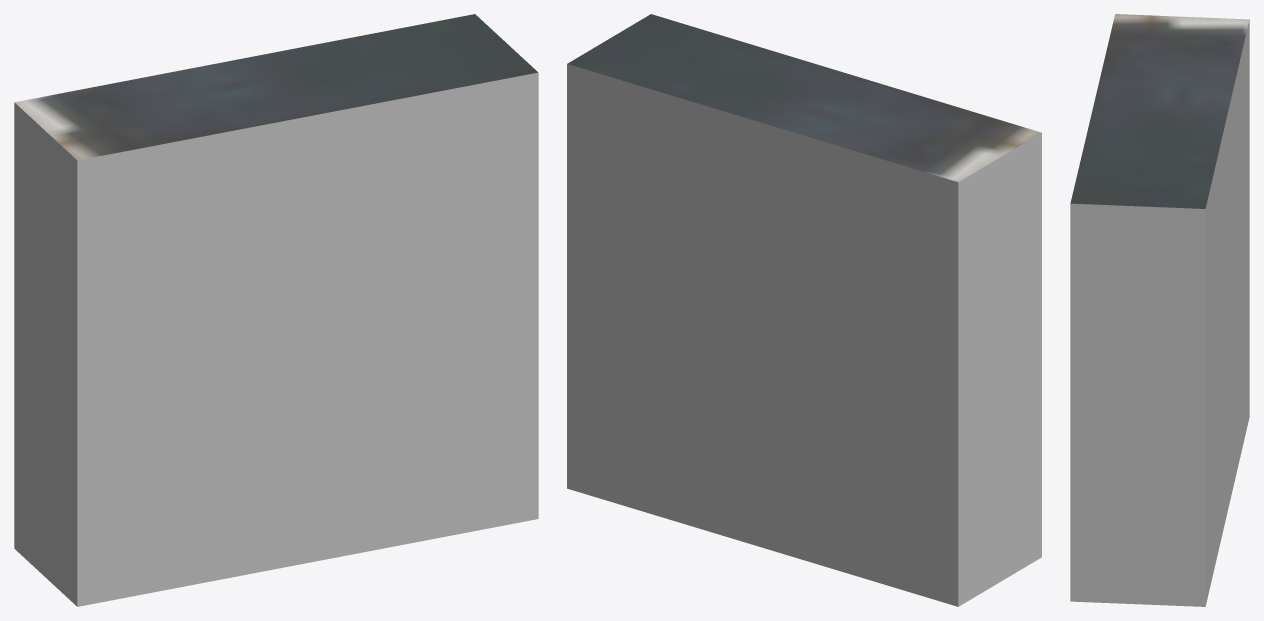
Rendered from DEBW_0010007THZG.gltf.
3 views of the same model, side by side, from view 1: azimuth 30°, elevation 25°; view 2: azimuth 150°, elevation 25°; view 3: azimuth 270°, elevation 25° (orthographic). The views are drawn at different scales.
Visible parts, largest first — view 1: Z_UP; view 2: Z_UP; view 3: Z_UP.
Boxes of the visible parts, x1,y1,x2,y2 form: Z_UP: (14,14,538,606); Z_UP: (567,14,1041,606); Z_UP: (1070,14,1249,606).
Bounding box in the file's own units: 5.77 × 5.49 × 2.24.
2 materials, 1 textured.
